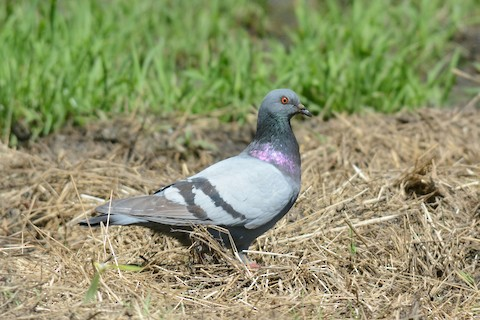pigeon: (79, 79, 315, 272)
